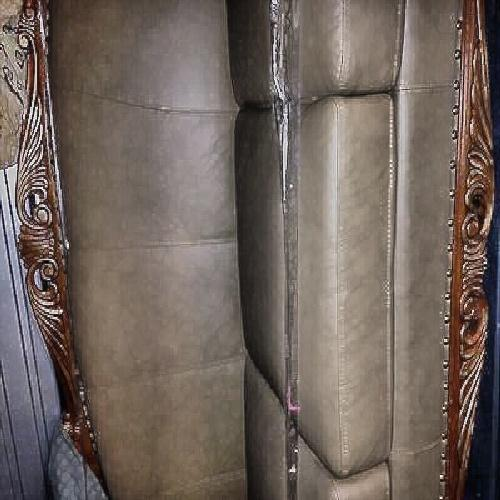sofa: (49, 20, 460, 468)
